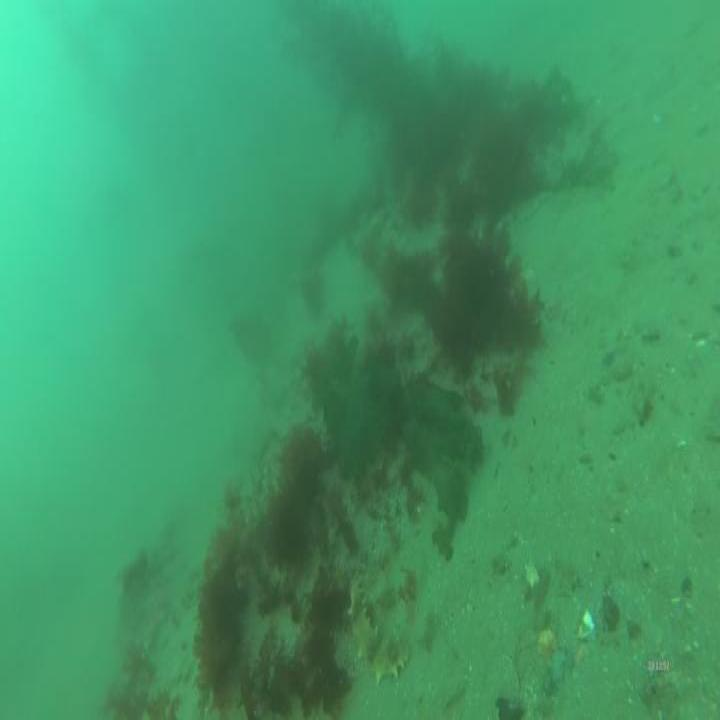holothurian: (373, 610, 420, 682), (346, 571, 380, 665)
